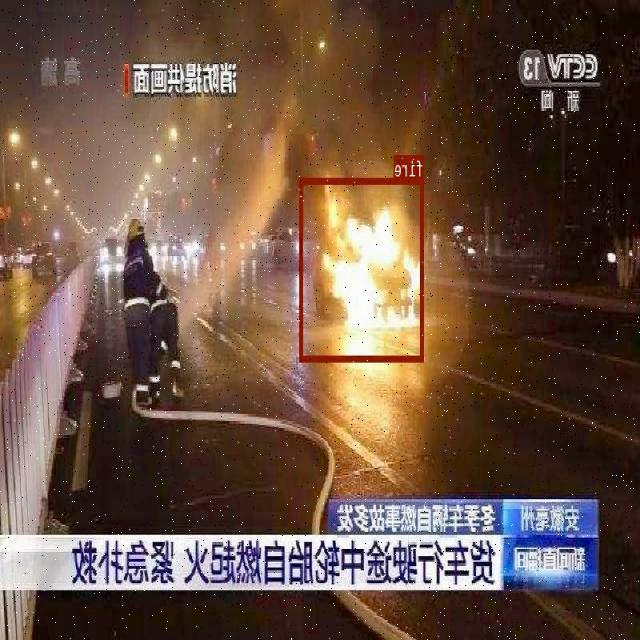fire: (300, 177, 425, 360)
